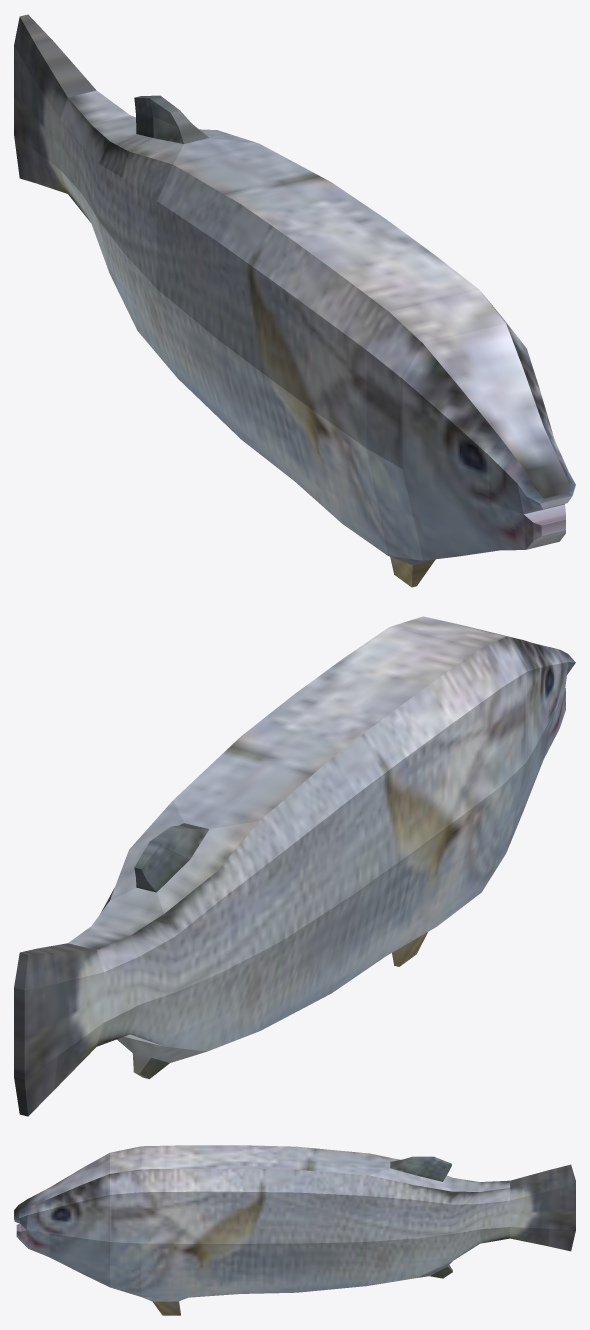
File: silver perch.glb
3 renders of one model, top to bottom at view 1: azimuth 30°, elevation 25°; view 2: azimuth 150°, elevation 25°; view 3: azimuth 270°, elevation 25°, orthographic. The views are drawn at different scales.
Visible parts, largest first — view 1: Cube; view 2: Cube; view 3: Cube.
Boxes of the visible parts, <box> form: Cube: <box>14,14,575,587</box>; Cube: <box>14,616,575,1116</box>; Cube: <box>14,1145,575,1315</box>.
Bounding box in the file's own units: 0.64 × 1.35 × 4.33.
1 material, 1 textured.
